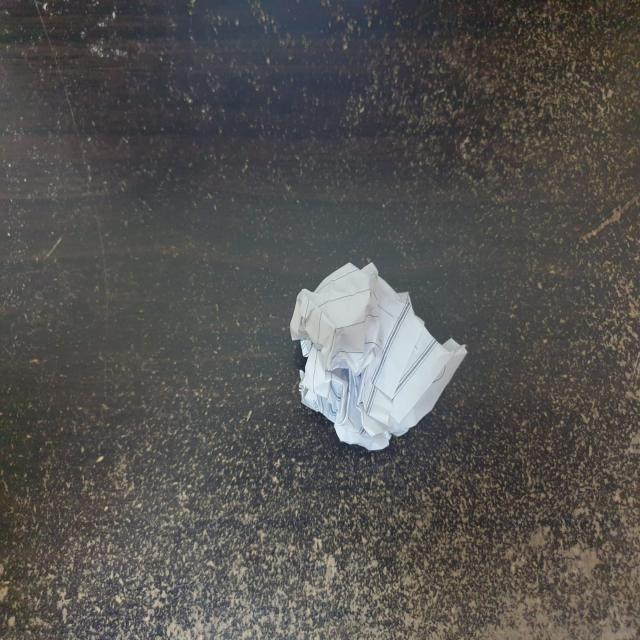Paper: (293, 267, 470, 454)
